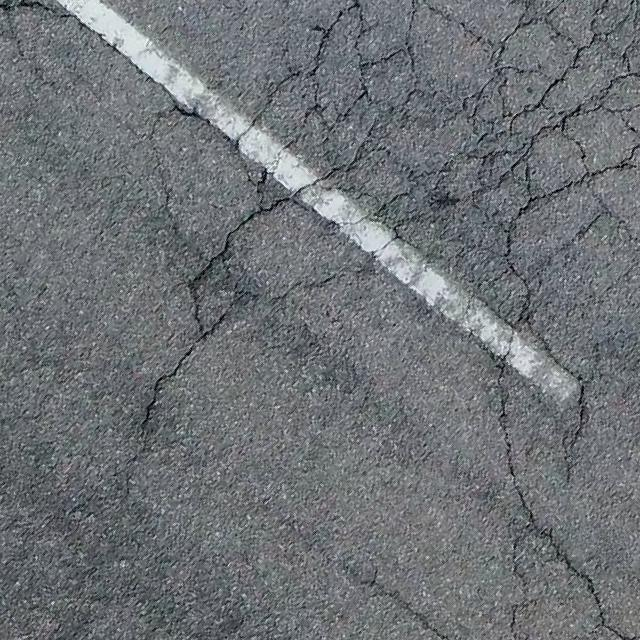GRIETA: (140, 337, 201, 437), (370, 579, 451, 639)
PIEL DE COCODRILO: (0, 0, 639, 639)
